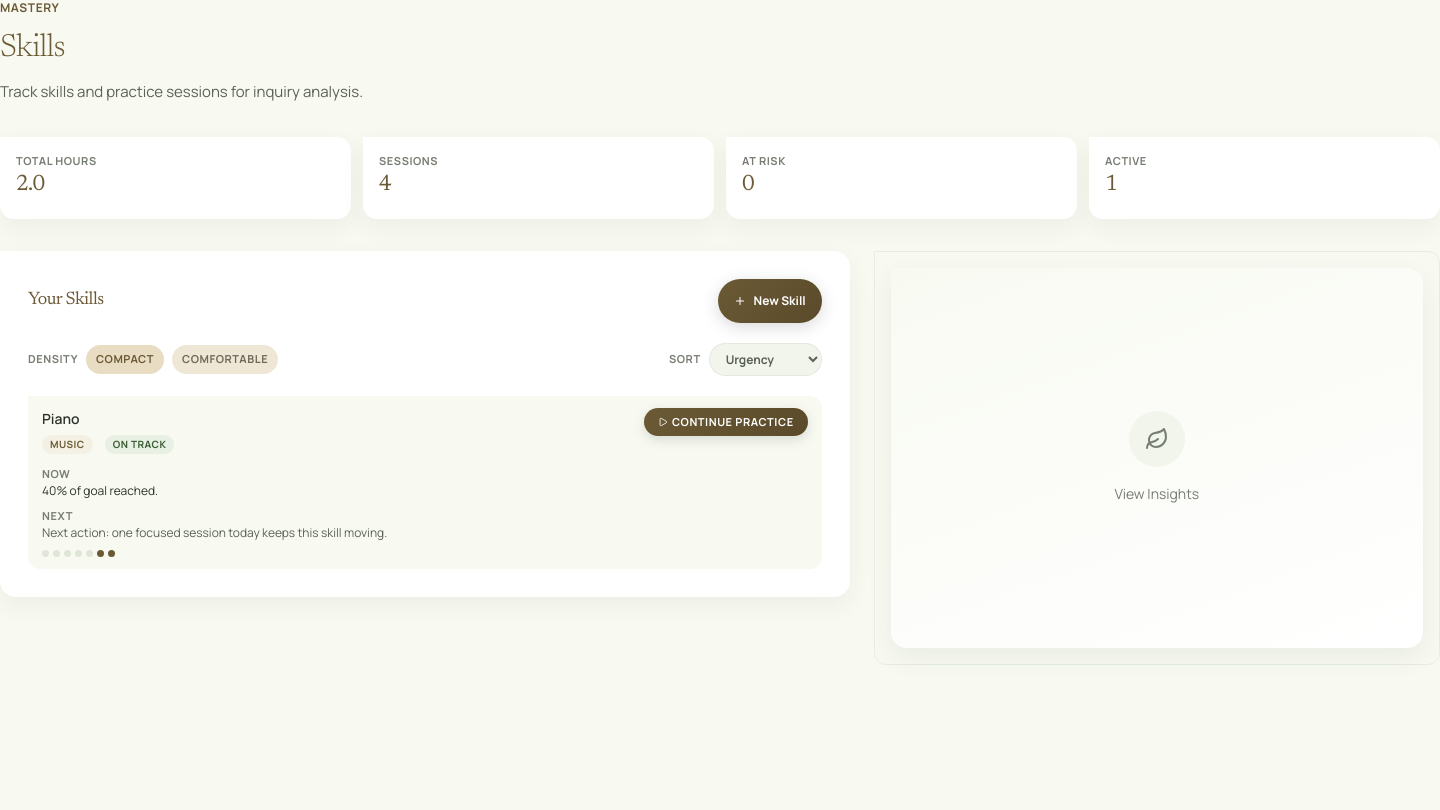
Test case: SkillsPage create flow rollout behavior › applies goal quick actions for target and timeline in edit-goal modal
Click the button with aria-label "open details for piano" at (61, 418), box [28,396,822,569]
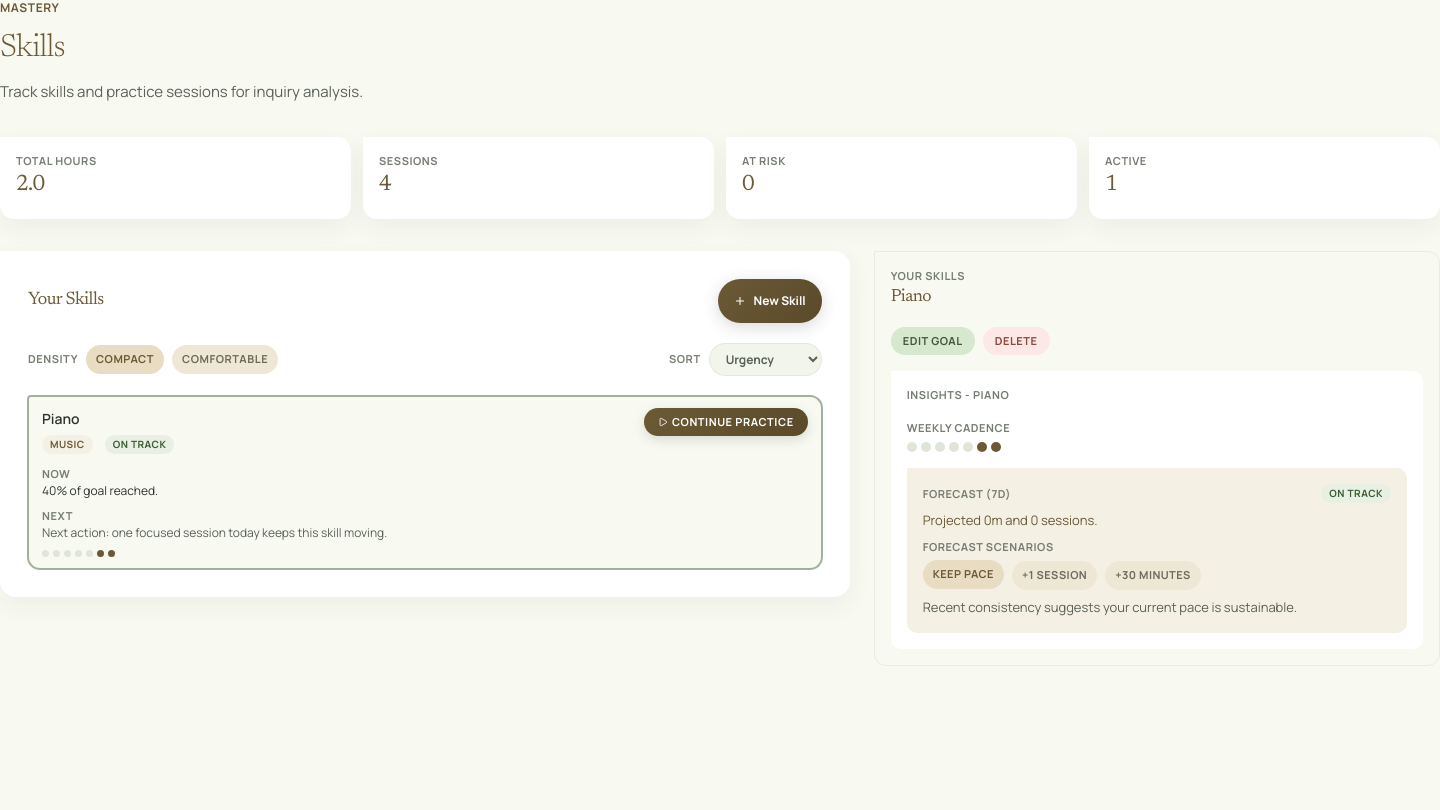
Click the button "Edit Goal" at (933, 341), box [891,327,975,355]
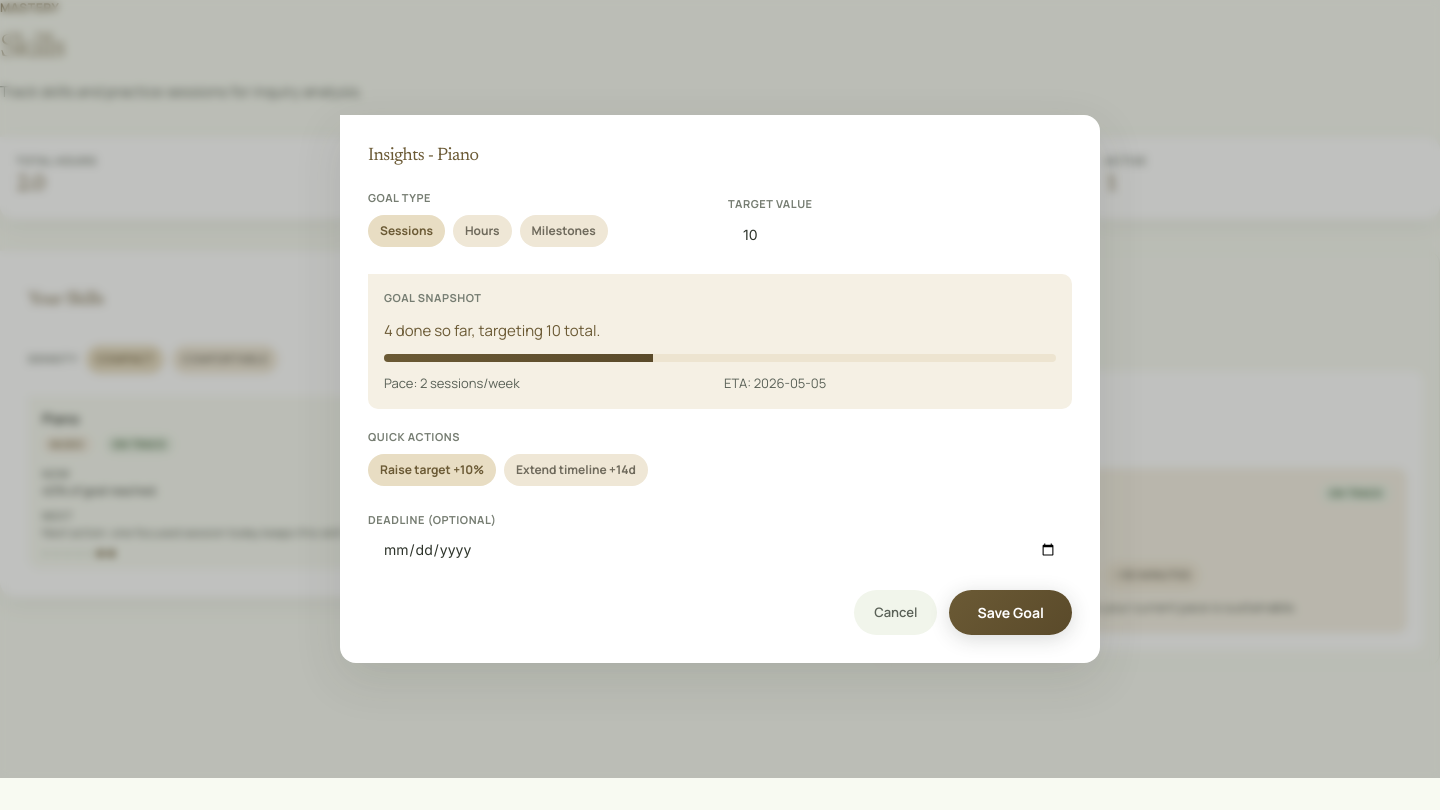
Expected: the number field labelled "Target Value" holds "10", [728,214,1072,254]
Expected: the date field labelled "Deadline (Optional)" is empty, [368,530,1072,570]
Click the button "Raise target +10%" at (432, 470), box [368,454,496,486]
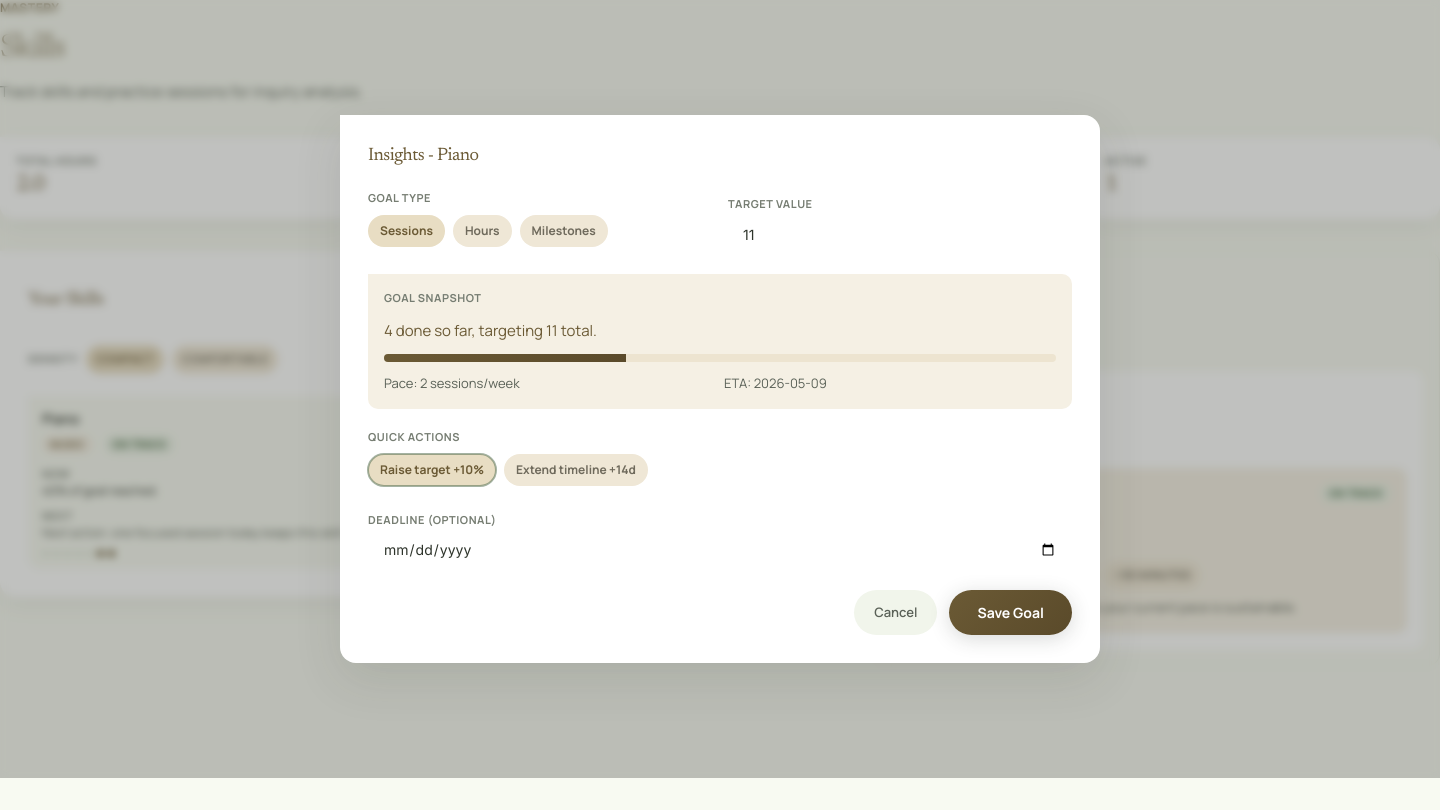
Expected: the number field labelled "Target Value" holds "11", [728,214,1072,254]
Click the button "Extend timeline +14d" at (576, 470), box [504,454,648,486]
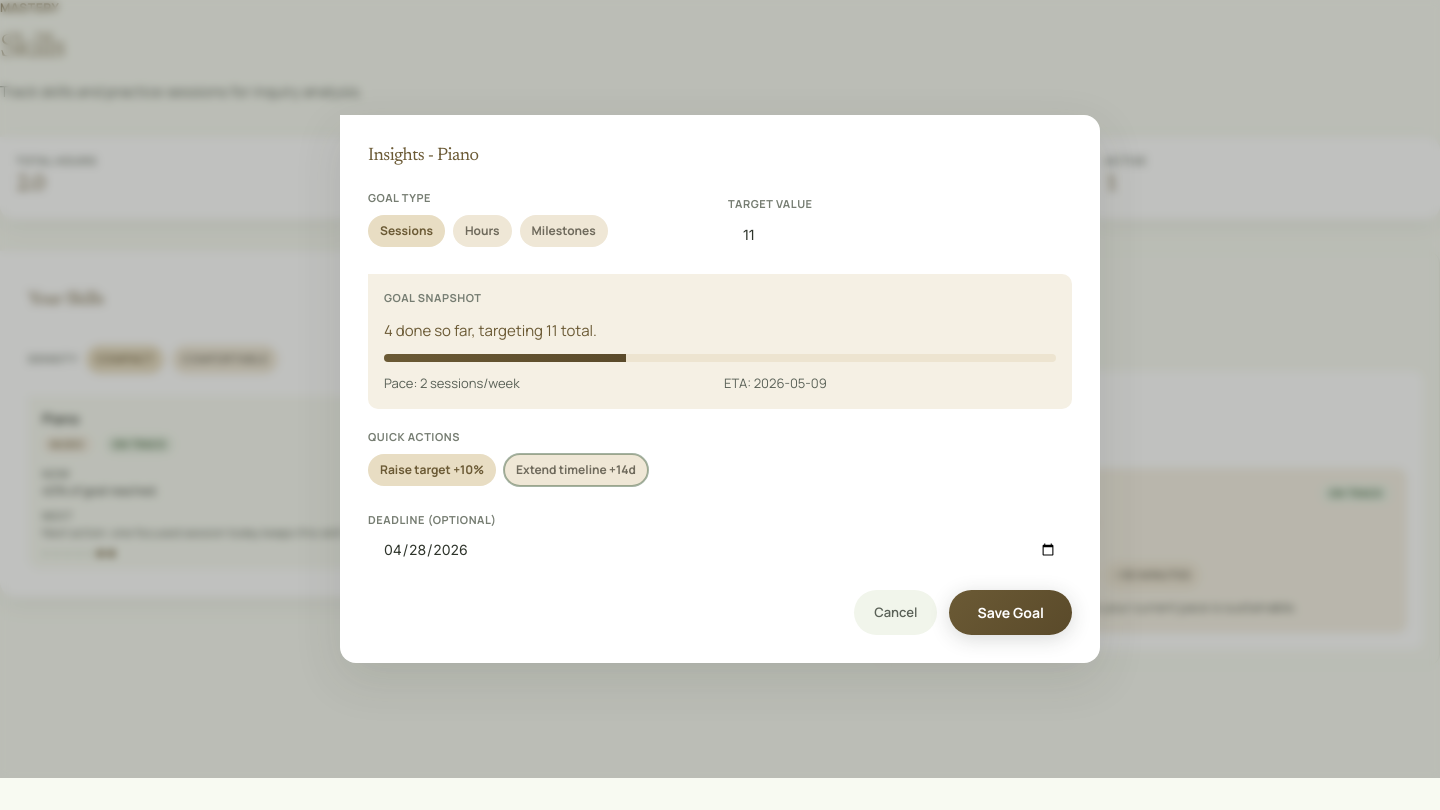
Expected: the date field labelled "Deadline (Optional)" is not empty, [368,530,1072,570]
